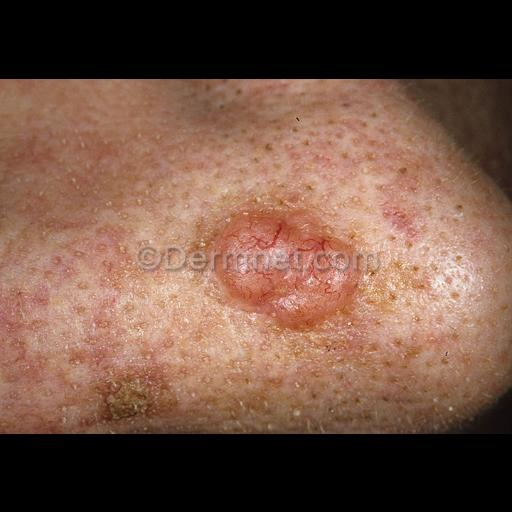Skin_Lesion: (186, 160, 368, 330), (74, 348, 188, 428), (497, 346, 511, 362)
